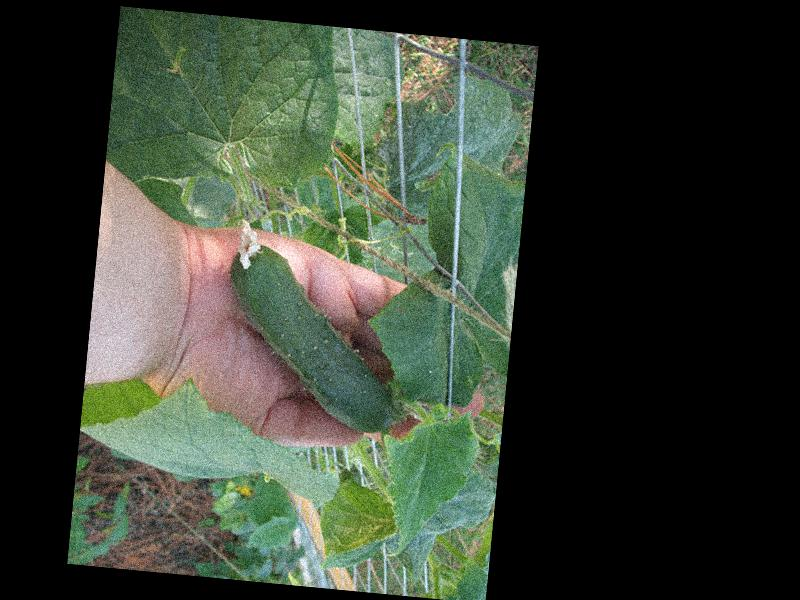Cucumber: (217, 217, 411, 433)
